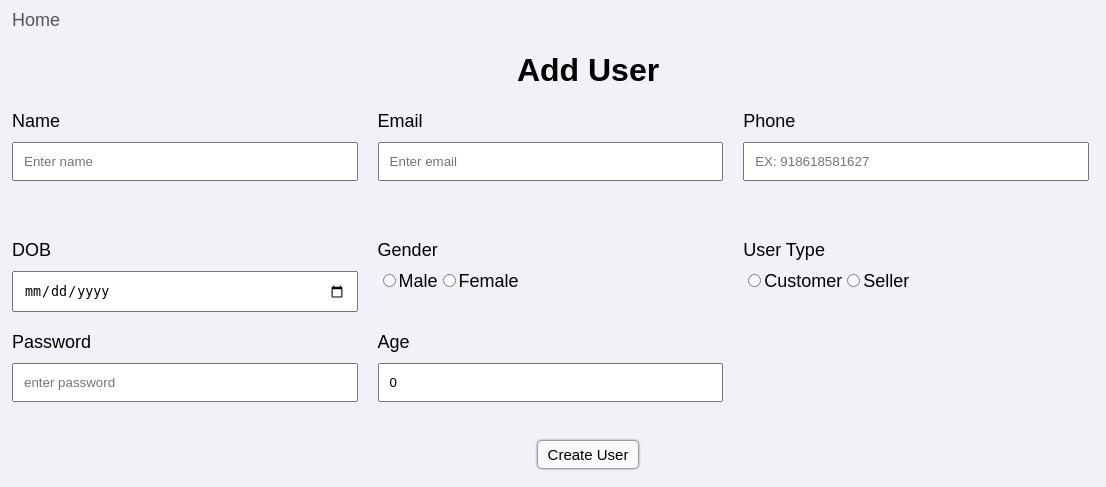
Admin Add User Page › shows validation errors
The width and height of the screenshot is (1106, 487).
Click the button "Create User" at coordinates (588, 455), box x1=538 y1=441 x2=638 y2=468
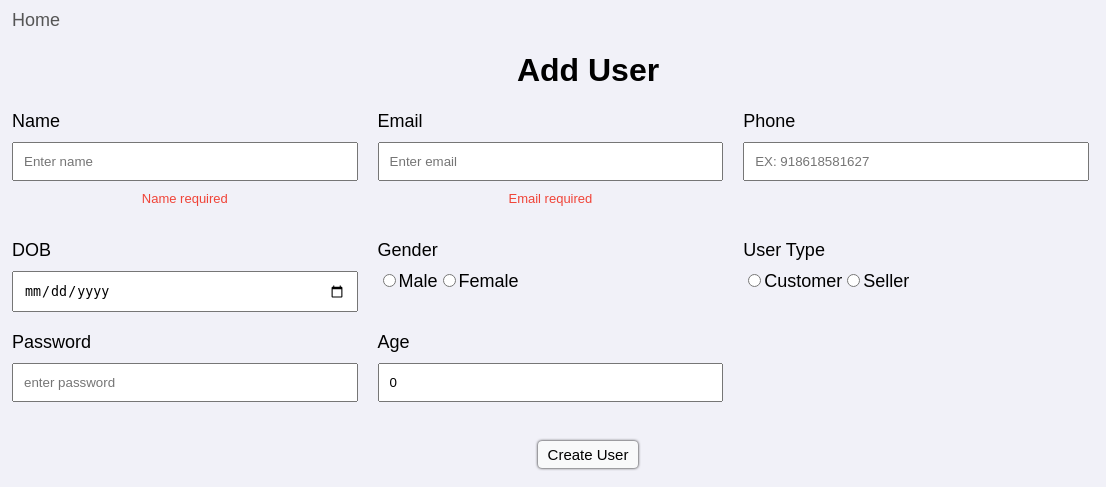
Now the text "Name required" is shown, box x1=142 y1=191 x2=228 y2=206
Now the text "Email required" is shown, box x1=508 y1=191 x2=592 y2=206
